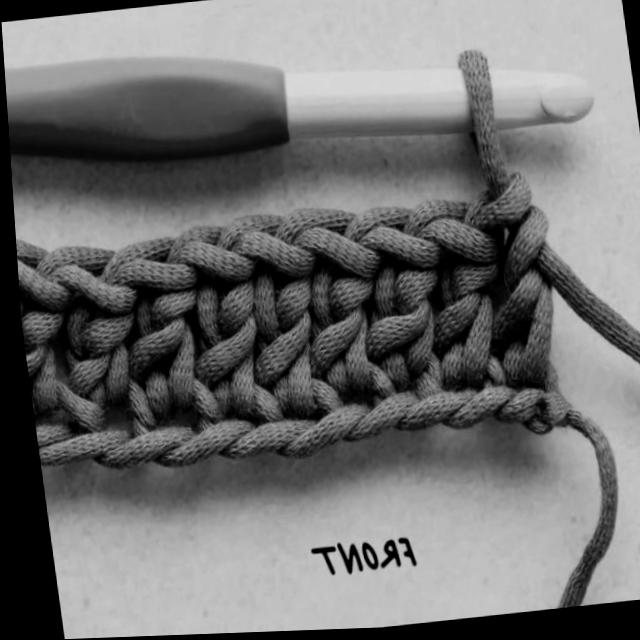ch: (145, 421, 248, 467), (276, 407, 356, 462), (213, 417, 314, 458), (336, 393, 420, 441), (32, 427, 131, 465), (83, 429, 169, 469), (392, 394, 478, 432), (435, 390, 511, 431), (476, 392, 543, 427), (29, 427, 68, 444)
dc: (211, 213, 335, 413), (270, 211, 392, 404), (32, 247, 153, 435), (97, 239, 214, 432), (163, 226, 273, 421), (461, 177, 554, 396), (399, 200, 502, 395), (340, 210, 435, 402), (13, 239, 97, 436)
